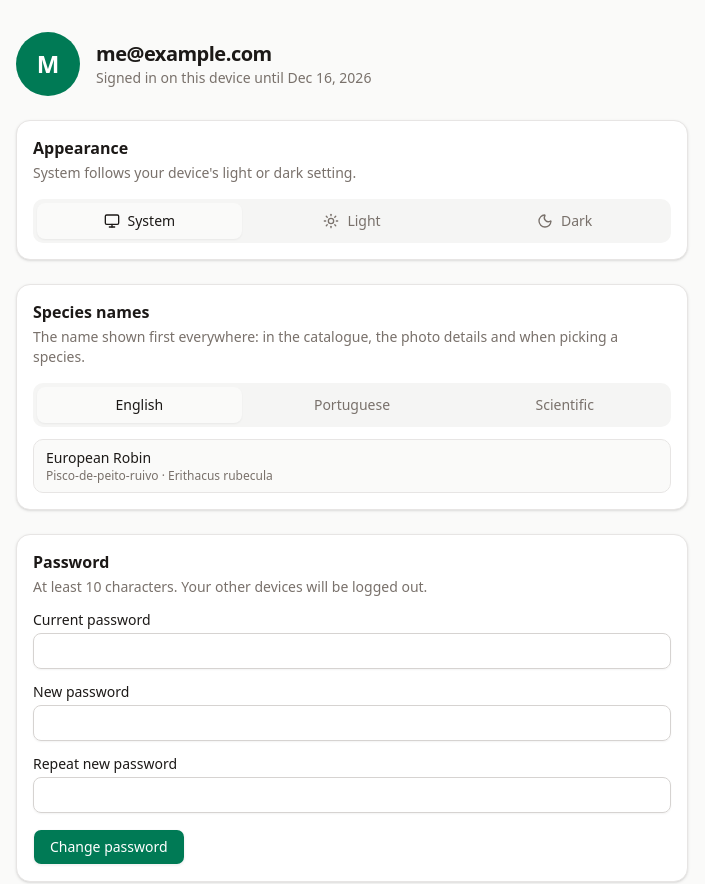
Test: Profile password › replaces an old success note on the next attempt
This screenshot has width=705, height=884.
In the password field labelled "Current password": (352, 651) 33,633 -> 671,669, type "old password!"
In the password field labelled "New password": (352, 723) 33,705 -> 671,741, type "a new password long enough"
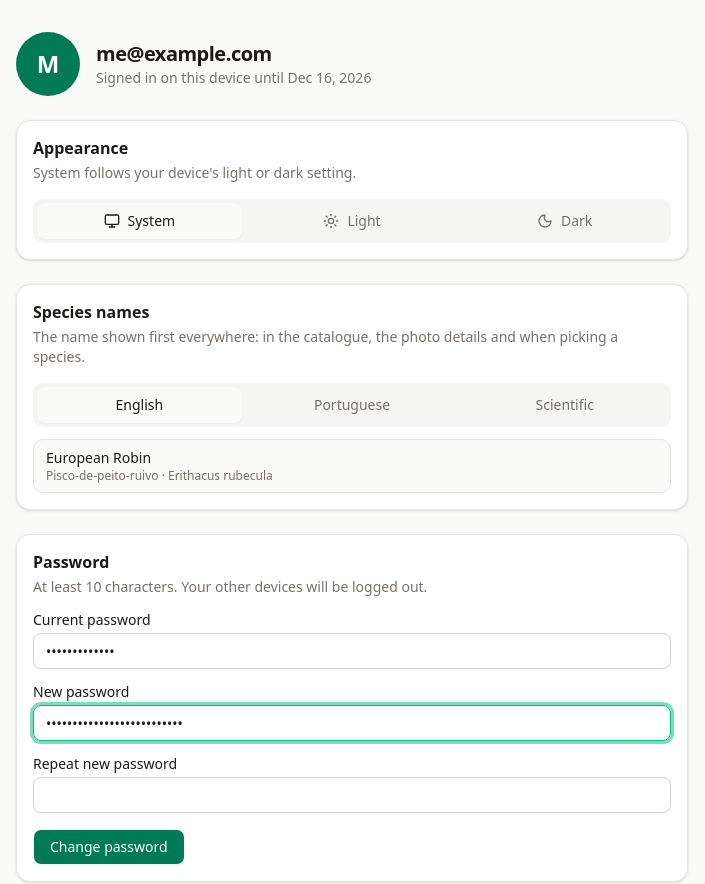
In the password field labelled "Repeat new password": (352, 795) 33,777 -> 671,813, type "a new password long enough"
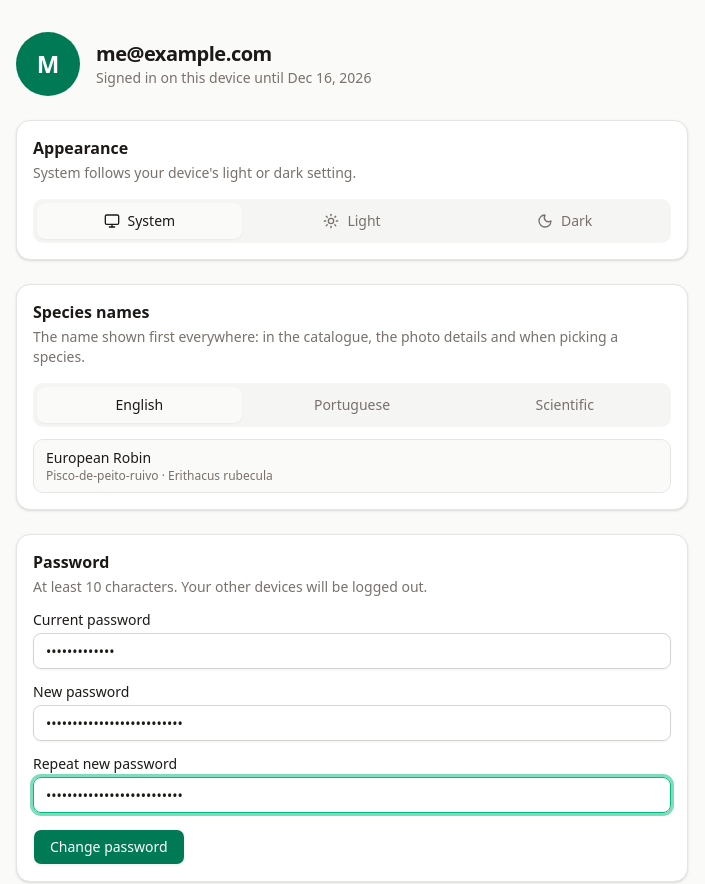
Click the button "Change password": (109, 847) 33,829 -> 185,865
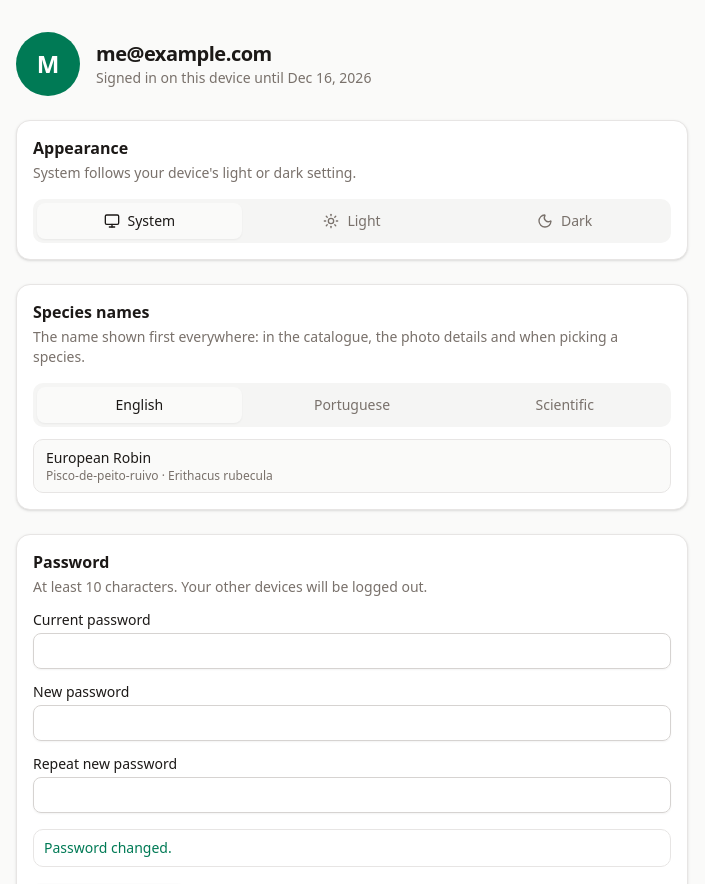
Now the text "Password changed." is shown, box 44,838 -> 172,857
In the password field labelled "Current password": (352, 651) 33,633 -> 671,669, type "wrong one!!"
In the password field labelled "New password": (352, 723) 33,705 -> 671,741, type "a new password long enough"
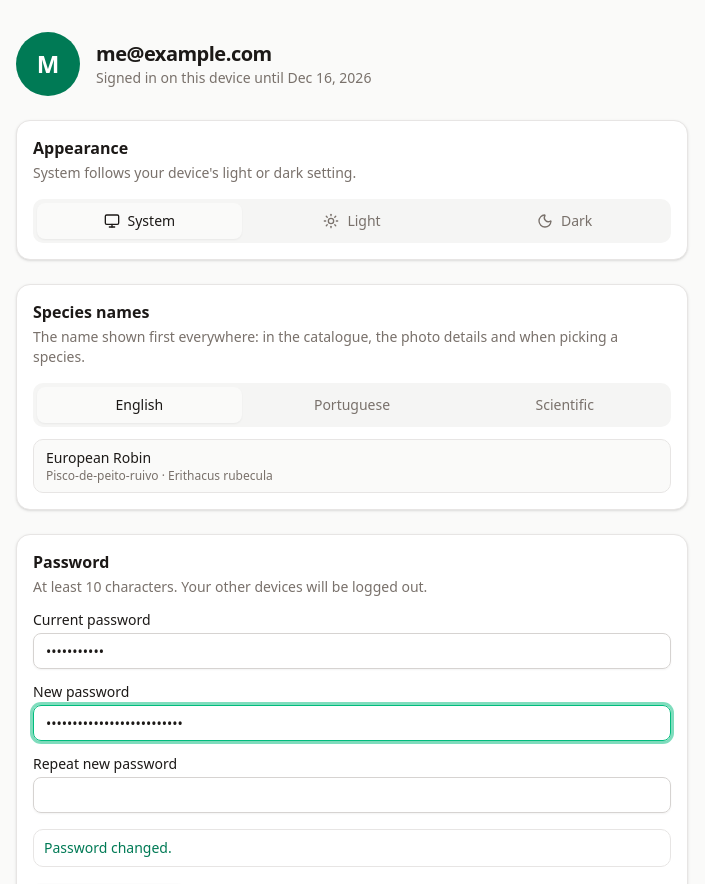
In the password field labelled "Repeat new password": (352, 795) 33,777 -> 671,813, type "a new password long enough"
(page scrolled)
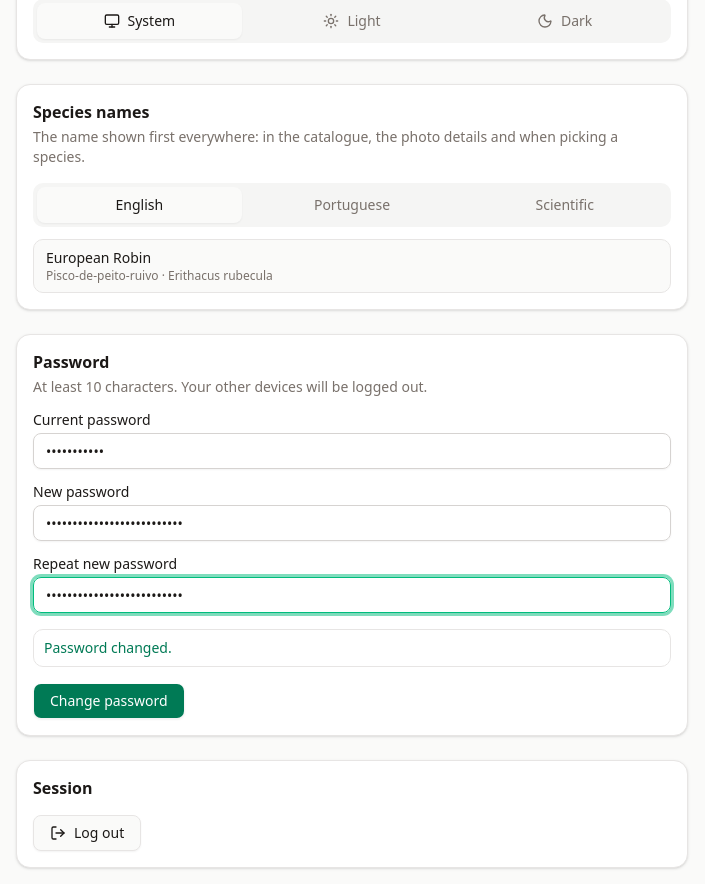
Click the button "Change password": (109, 701) 33,683 -> 185,719
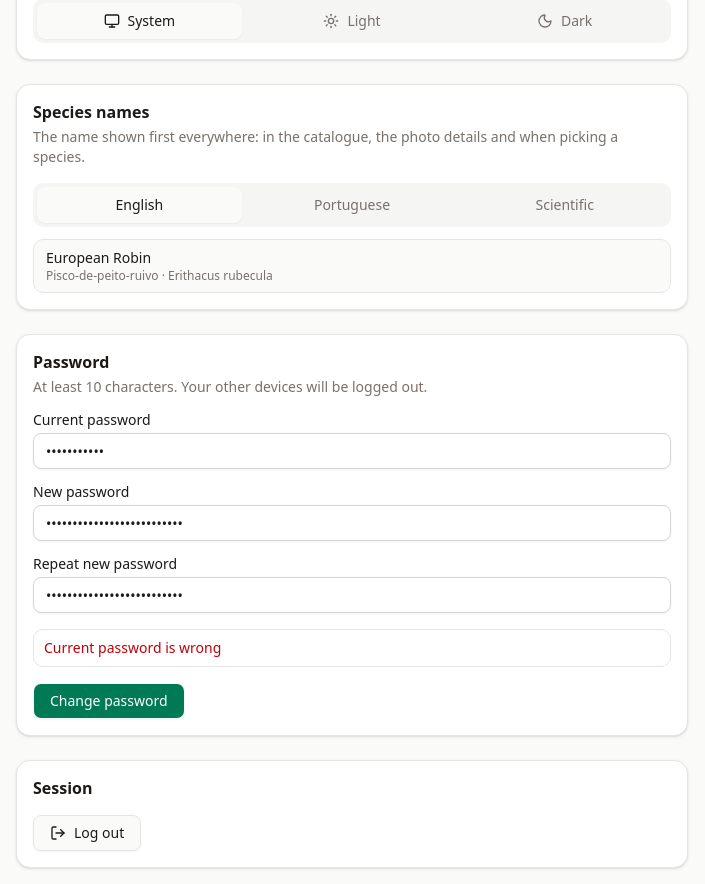
Now the text "Current password is wrong" is shown, box 44,638 -> 221,657
Now the text "Password changed." is gone
